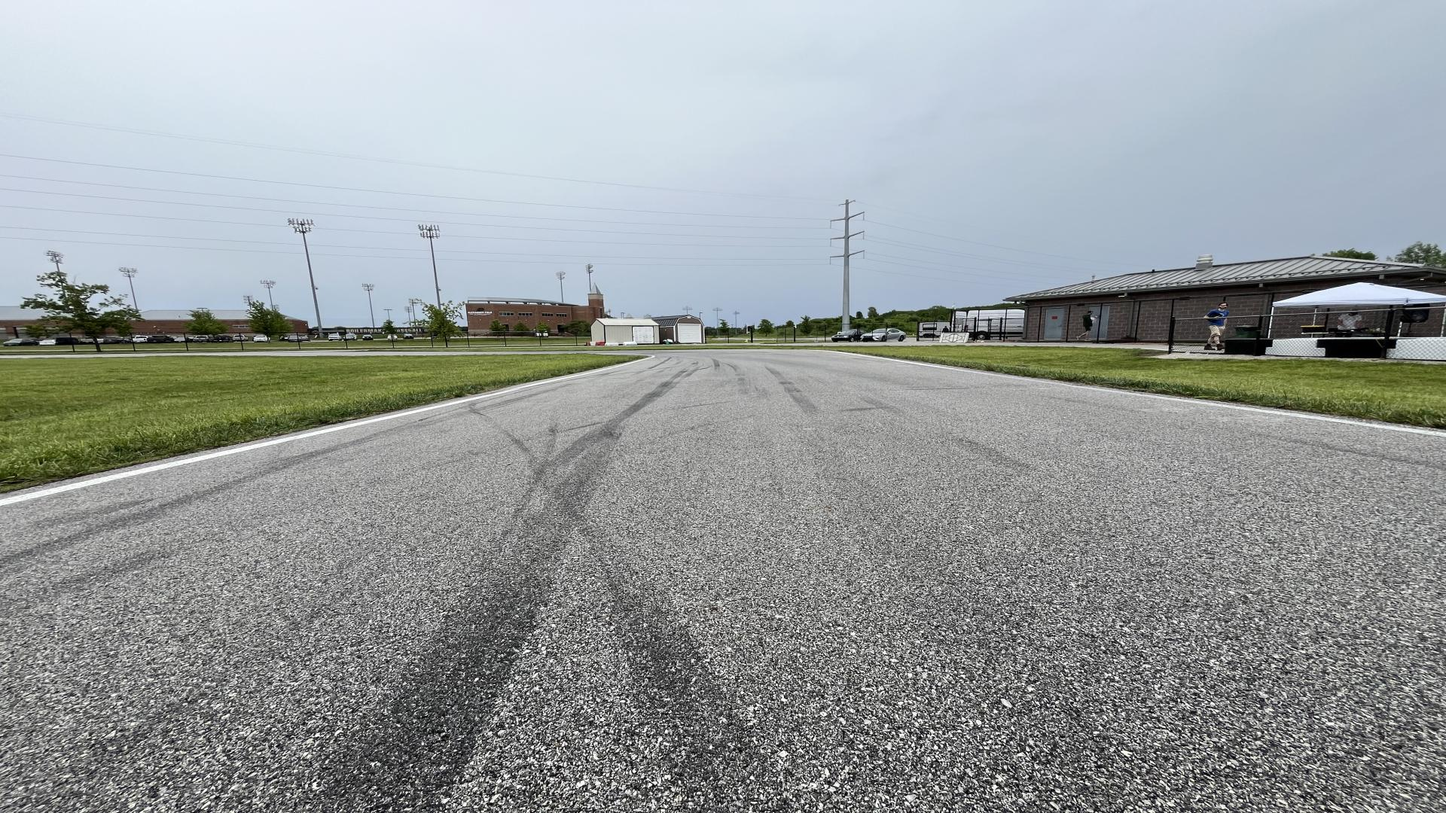white-line: (0, 352, 655, 509), (777, 349, 1445, 438), (868, 356, 871, 358)
